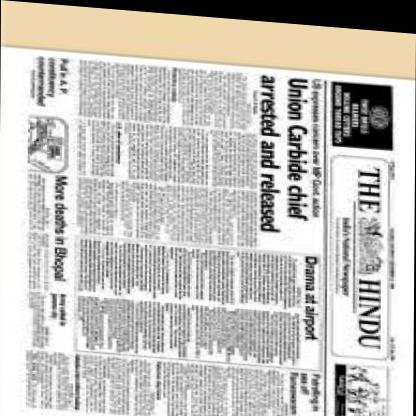Paper: (0, 42, 408, 416)
